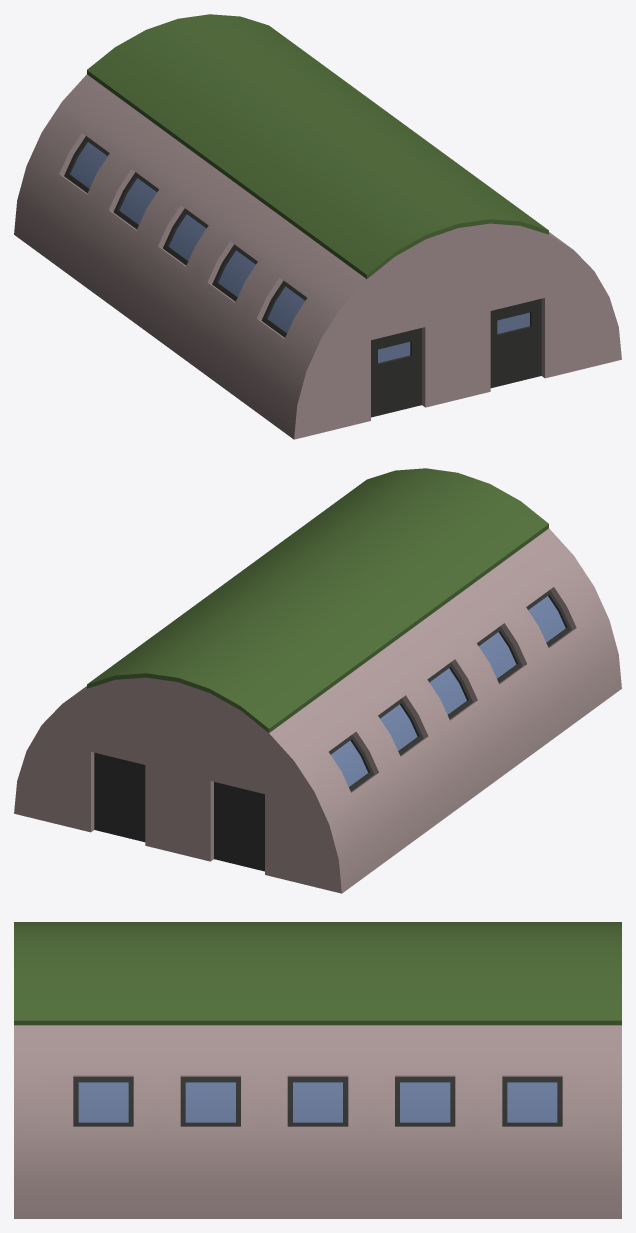
Rendered from FactoryBuilding_08.fbx.
3 views of the same model, one above another, from view 1: azimuth 30°, elevation 25°; view 2: azimuth 150°, elevation 25°; view 3: azimuth 270°, elevation 25° (orthographic). The views are drawn at different scales.
Visible parts, largest first — view 1: FactoryBuilding_08; view 2: FactoryBuilding_08; view 3: FactoryBuilding_08.
Part boxes in pixels (x1,y1,x2,y2): FactoryBuilding_08: (14,14,621,439); FactoryBuilding_08: (14,468,621,893); FactoryBuilding_08: (14,922,621,1218).
Bounding box in the file's own units: 16.26 × 8.33 × 24.05.
